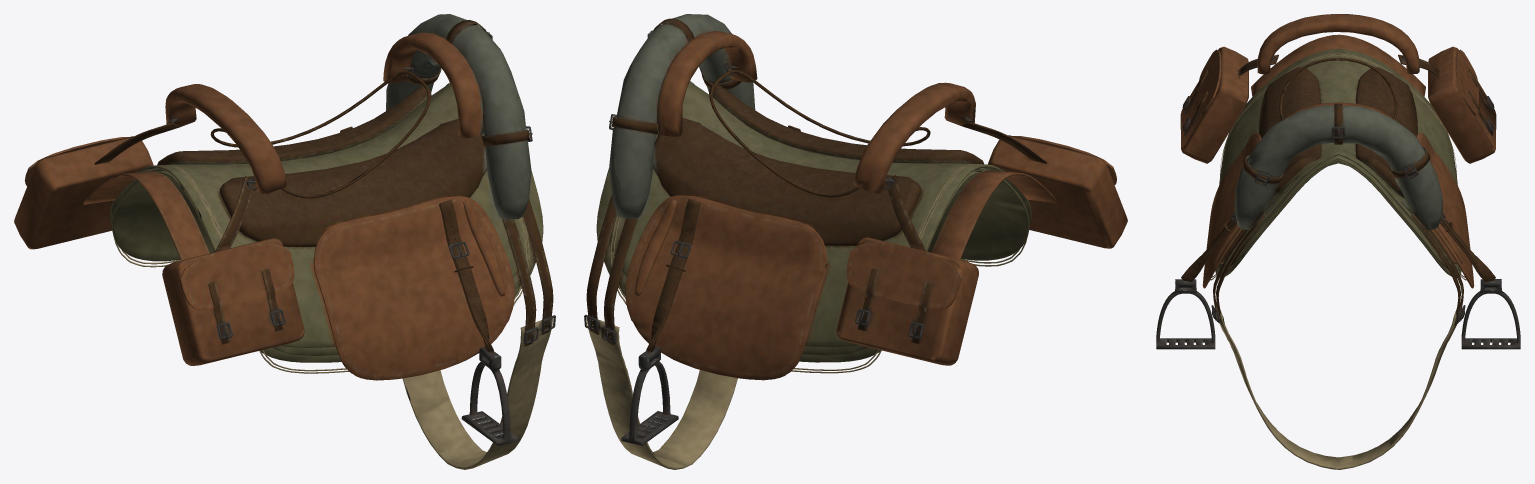
The model's file is eyer.glb.
The picture shows the model from 3 angles, left to right: view 1: azimuth 30°, elevation 25°; view 2: azimuth 150°, elevation 25°; view 3: azimuth 270°, elevation 25°; orthographic projection. The views are drawn at different scales.
Visible parts, largest first — view 1: eyer, uzengi_R; view 2: eyer, uzengi_L; view 3: eyer, uzengi_R, uzengi_L.
Boxes of the visible parts, box(x1,y1,x2,y2) form: eyer: box(14, 14, 555, 469); uzengi_R: box(439, 199, 518, 445); eyer: box(584, 14, 1127, 469); uzengi_L: box(621, 199, 701, 445); eyer: box(1180, 14, 1496, 469); uzengi_R: box(1156, 212, 1236, 349); uzengi_L: box(1439, 212, 1520, 349).
Bounding box in the file's own units: 0.8997 × 0.9727 × 0.8884.
3 materials, 3 textured.
